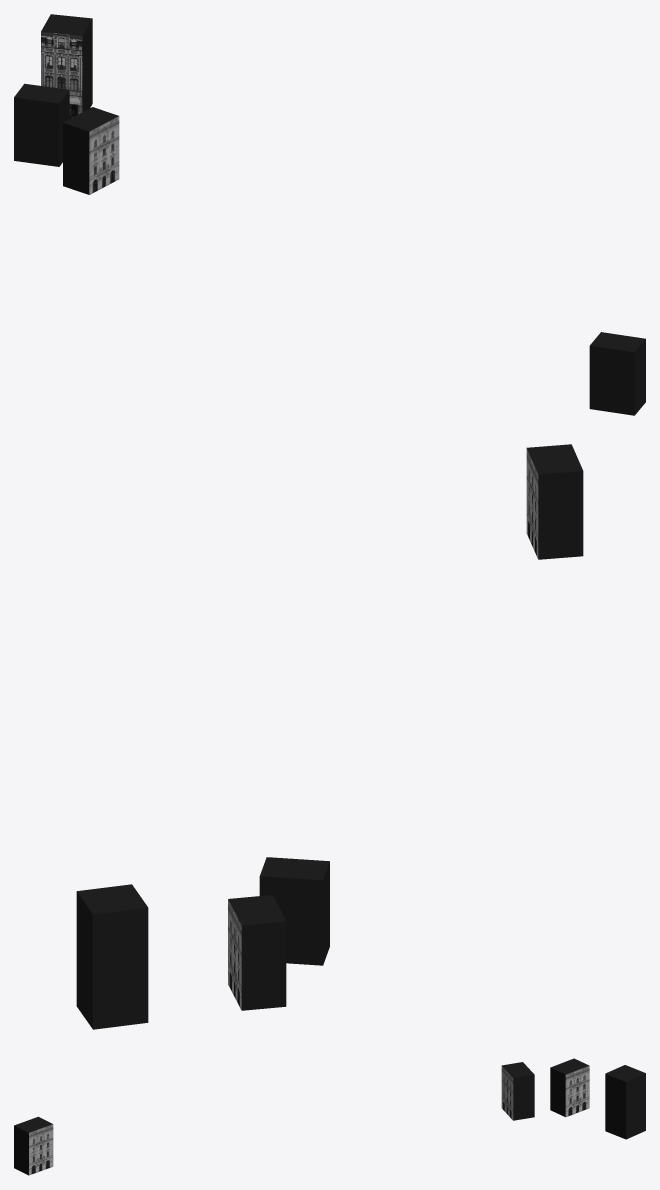
The model's file is extra_placeholder_buildings.FBX.
3 views of the same model, one above another, from view 1: azimuth 30°, elevation 25°; view 2: azimuth 150°, elevation 25°; view 3: azimuth 270°, elevation 25° (orthographic). The views are drawn at different scales.
Parts seen in each view (by area): view 1: D_OLD_placeholder013, D_OLD_placeholder009, F_OLD_placeholder_front004, D_OLD_placeholder011, D_OLD_placeholder_front006, F_OLD_placeholder008; view 2: F_OLD_placeholder008, D_OLD_placeholder011, D_OLD_placeholder013, D_OLD_placeholder009, D_OLD_placeholder_front005, D_OLD_placeholder_front007; view 3: F_OLD_placeholder008, D_OLD_placeholder011, D_OLD_placeholder_front007, D_OLD_placeholder_front005, D_OLD_placeholder009, D_OLD_placeholder013, D_OLD_placeholder_front006.
Boxes of the visible parts, x1,y1,x2,y2 form: D_OLD_placeholder013: [589, 332, 645, 415]; D_OLD_placeholder009: [14, 83, 69, 166]; F_OLD_placeholder_front004: [41, 32, 82, 118]; D_OLD_placeholder011: [63, 107, 118, 194]; D_OLD_placeholder_front006: [89, 116, 119, 194]; F_OLD_placeholder008: [41, 14, 92, 111]; F_OLD_placeholder008: [76, 884, 148, 1029]; D_OLD_placeholder011: [259, 857, 329, 965]; D_OLD_placeholder013: [527, 444, 583, 559]; D_OLD_placeholder009: [228, 895, 286, 1010]; D_OLD_placeholder_front005: [228, 899, 241, 1010]; D_OLD_placeholder_front007: [526, 448, 538, 558]; F_OLD_placeholder008: [605, 1065, 645, 1139]; D_OLD_placeholder011: [502, 1062, 534, 1120]; D_OLD_placeholder_front007: [29, 1124, 53, 1175]; D_OLD_placeholder_front005: [565, 1065, 589, 1116]; D_OLD_placeholder009: [550, 1058, 588, 1116]; D_OLD_placeholder013: [14, 1116, 52, 1175]; D_OLD_placeholder_front006: [501, 1066, 513, 1120].
Bounding box in the file's own units: 6101 × 2200 × 21895.
3 materials, 2 textured.
